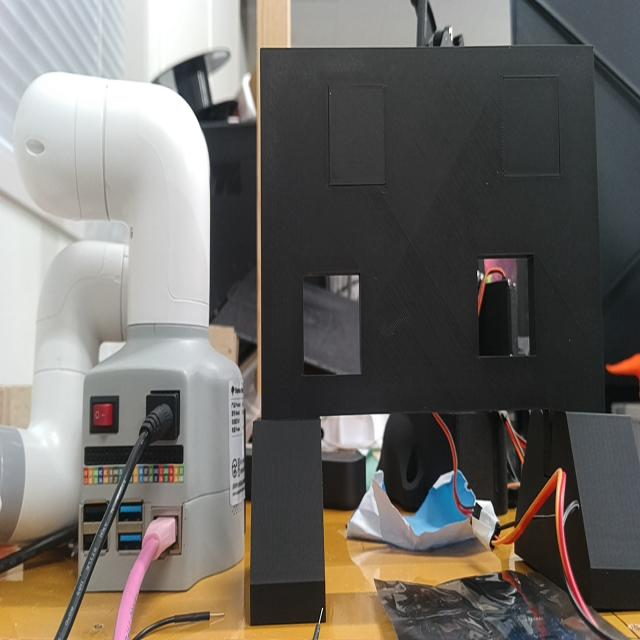Obstacle: (477, 255, 540, 356), (303, 275, 359, 375)
Wall: (262, 46, 607, 418)
